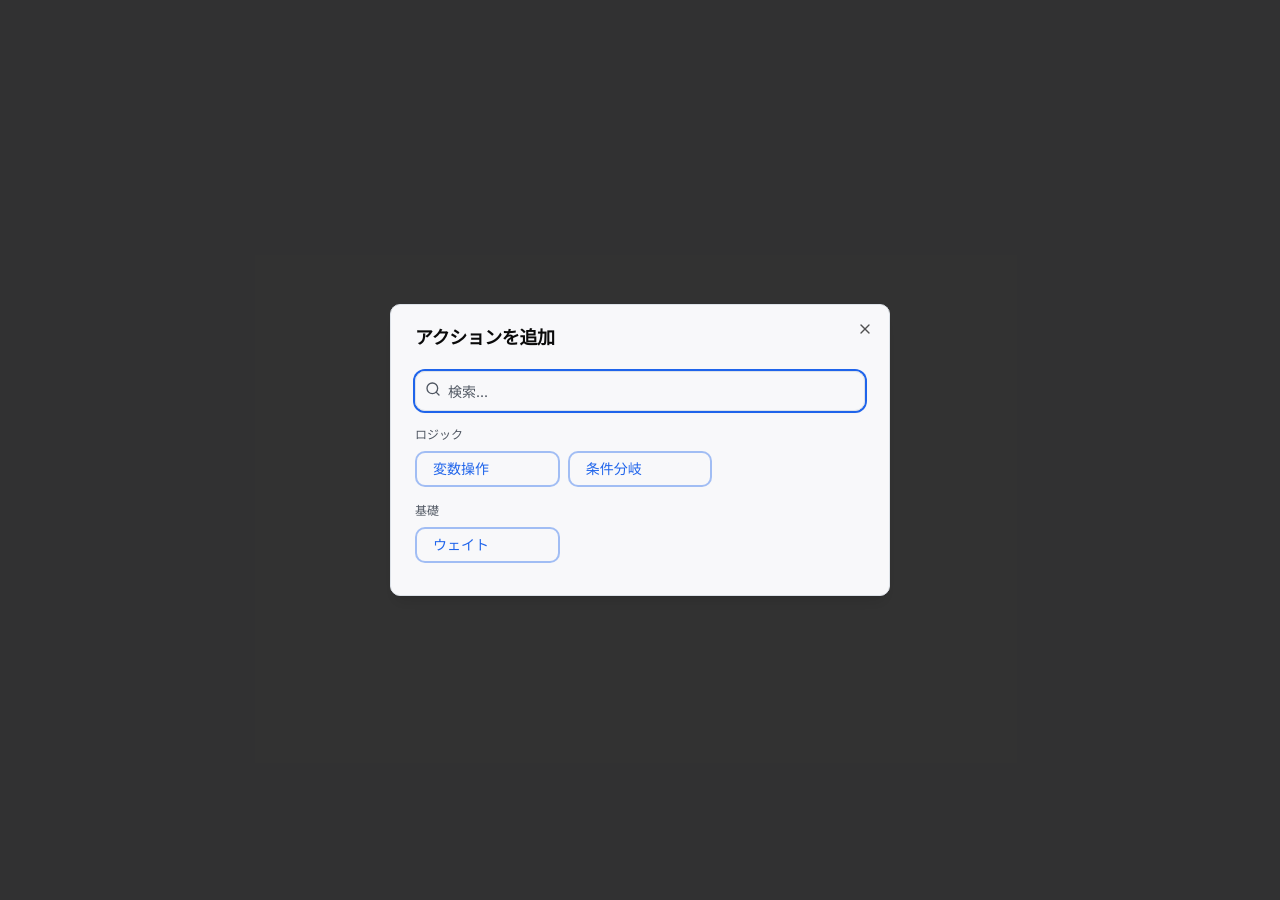
ActionSelector › 検索結果がない場合メッセージが表示される
The width and height of the screenshot is (1280, 900).
Type "xxxxxx" into the field with placeholder "検索...".
click(640, 391); type("xxxxxx")  # box [415,371,865,411]
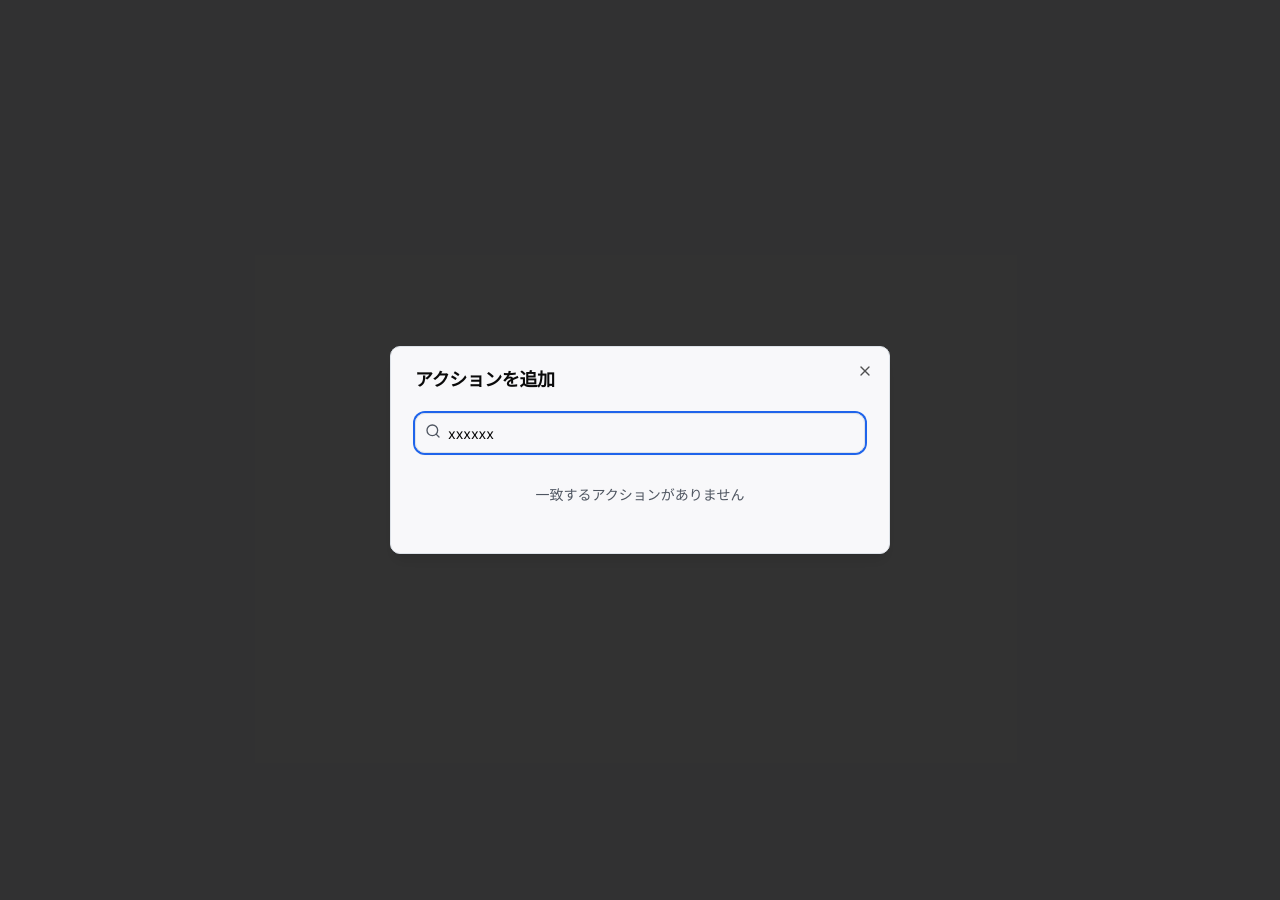
expect the text "一致するアクションがありません" is shown: met, box [536,486,744,503]
